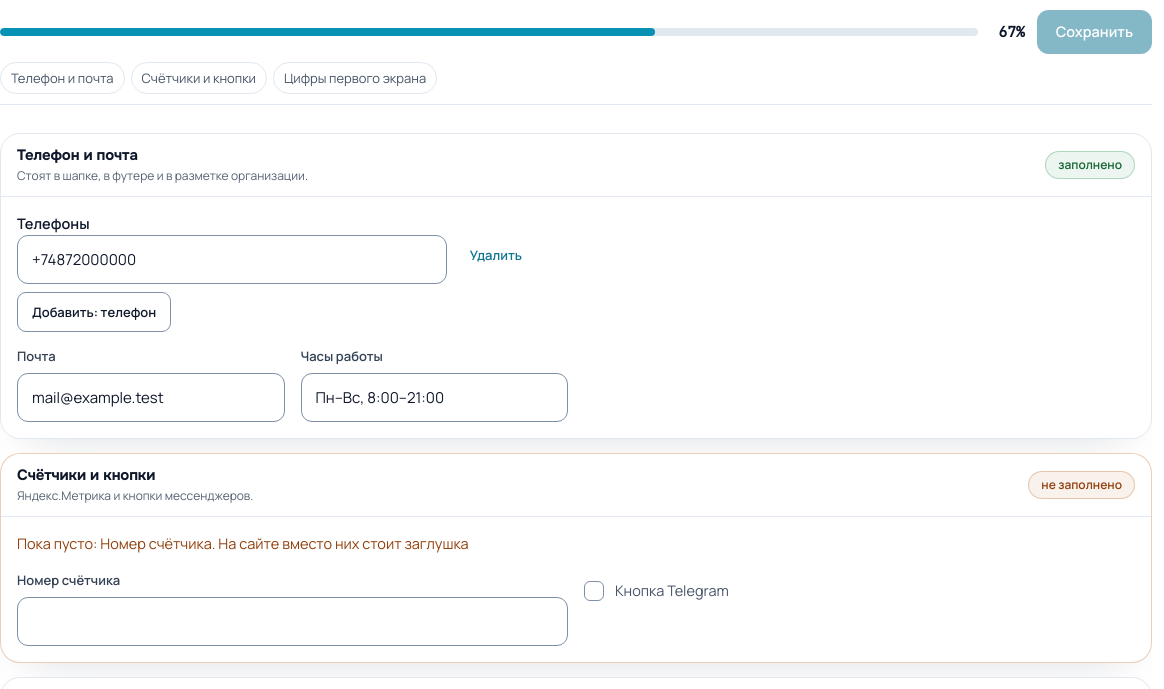
Scenario: Данные компании: одна кнопка на тринадцать групп › «Отменить правки» возвращает все группы к сохранённому
This screenshot has width=1164, height=689.
In the field labelled "Почта": (151, 398) [17,373,284,422], type "x"
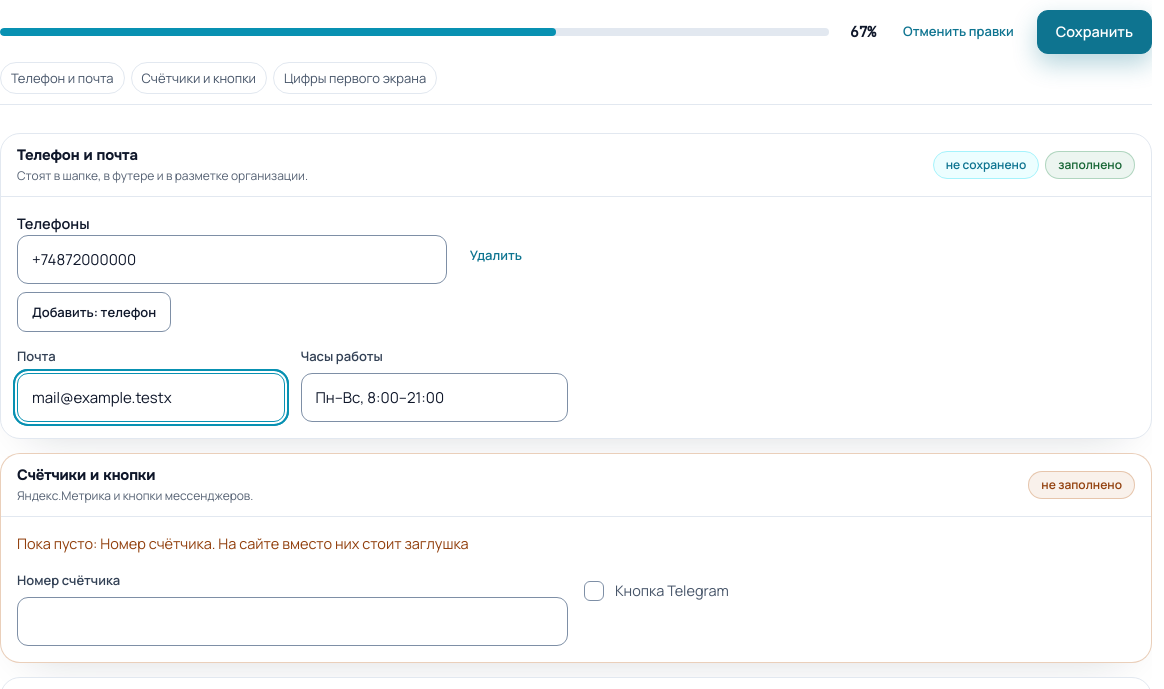
Click the button "Отменить правки": (958, 32) [888,12,1029,52]
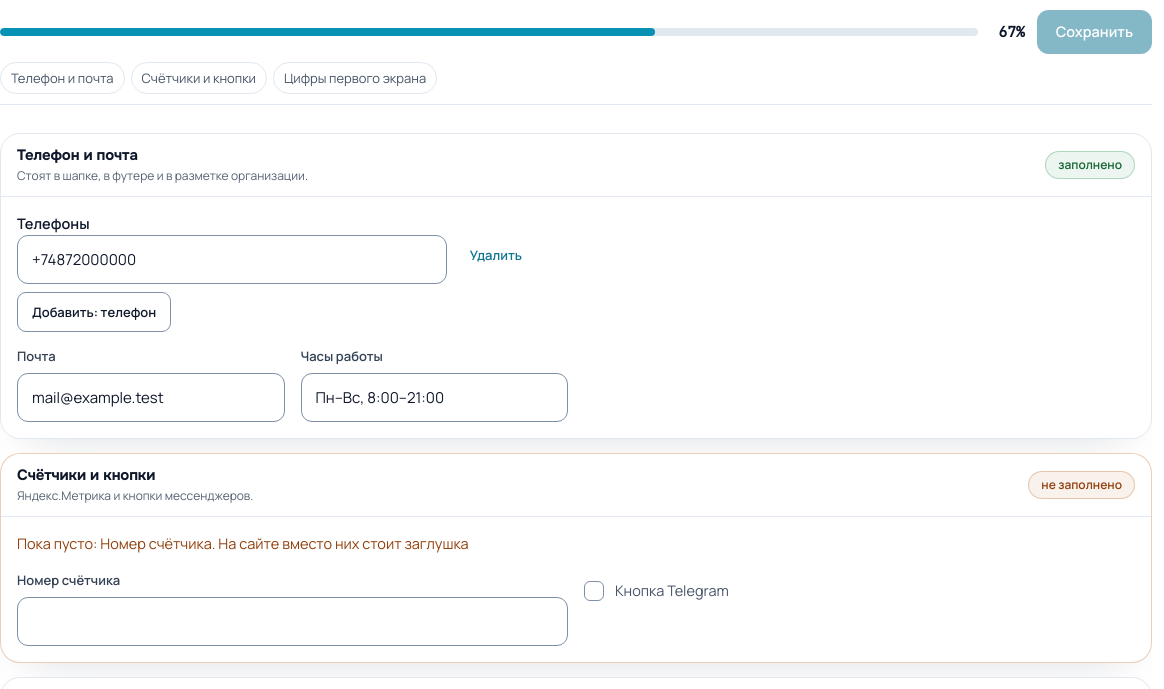
expect the field labelled "Почта" holds "mail@example.test": met, box [17,373,284,422]
